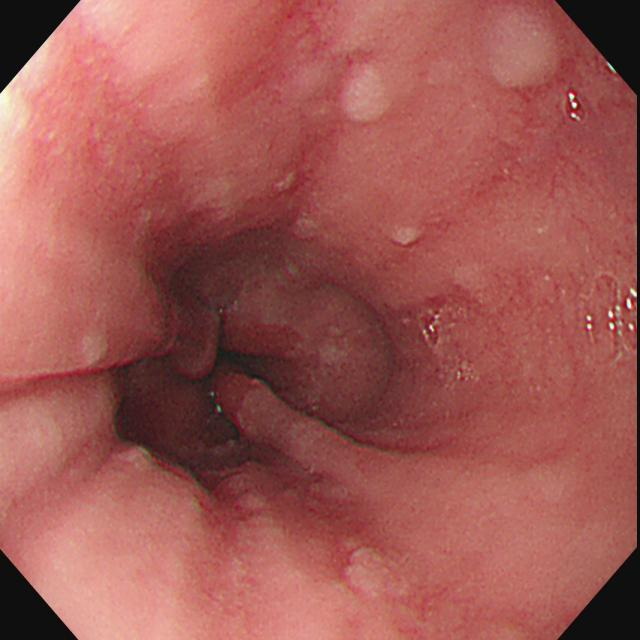D: (262, 473, 352, 557)
I: (127, 242, 363, 470)
J: (477, 13, 565, 99), (335, 57, 402, 136), (340, 537, 413, 605)
T: (589, 276, 638, 363), (421, 310, 449, 354)
